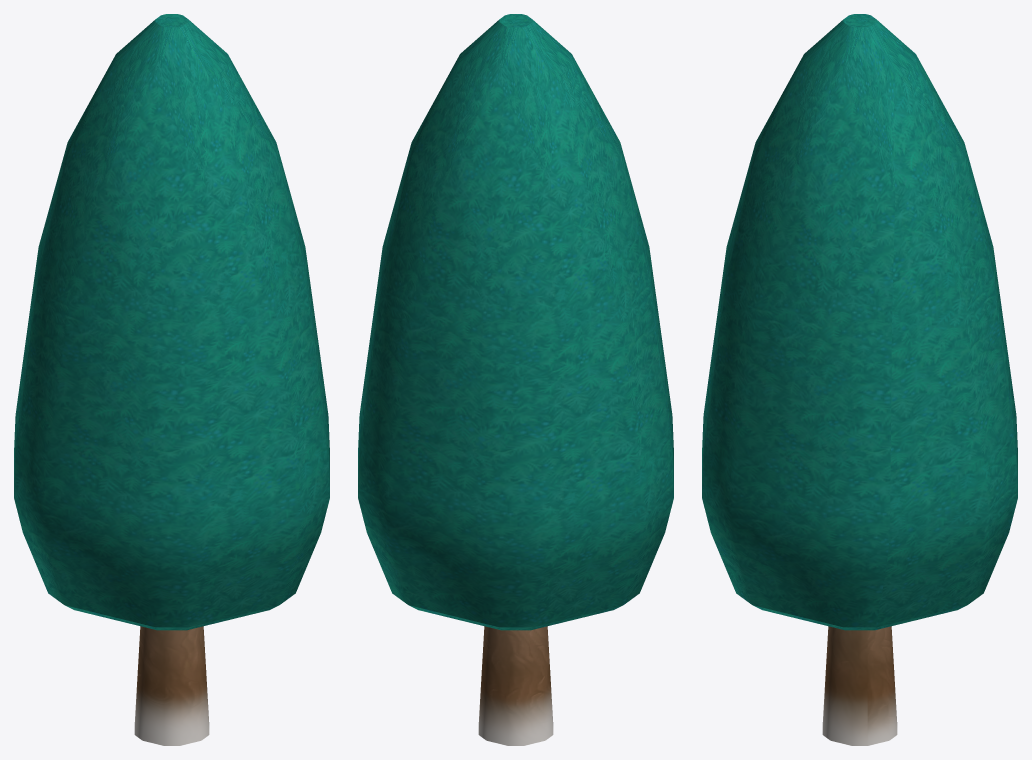
The model's file is Tree02_L.FBX.
The picture shows the model from 3 angles, left to right: view 1: azimuth 30°, elevation 25°; view 2: azimuth 150°, elevation 25°; view 3: azimuth 270°, elevation 25°; orthographic projection.
Parts seen in each view (by area): view 1: Cylinder003; view 2: Cylinder003; view 3: Cylinder003.
Part boxes in pixels (x1=…): Cylinder003: x1=14, y1=14, x2=329, y2=745; Cylinder003: x1=358, y1=14, x2=673, y2=745; Cylinder003: x1=702, y1=14, x2=1017, y2=745.
Bounding box in the file's own units: 158 × 374 × 151.
